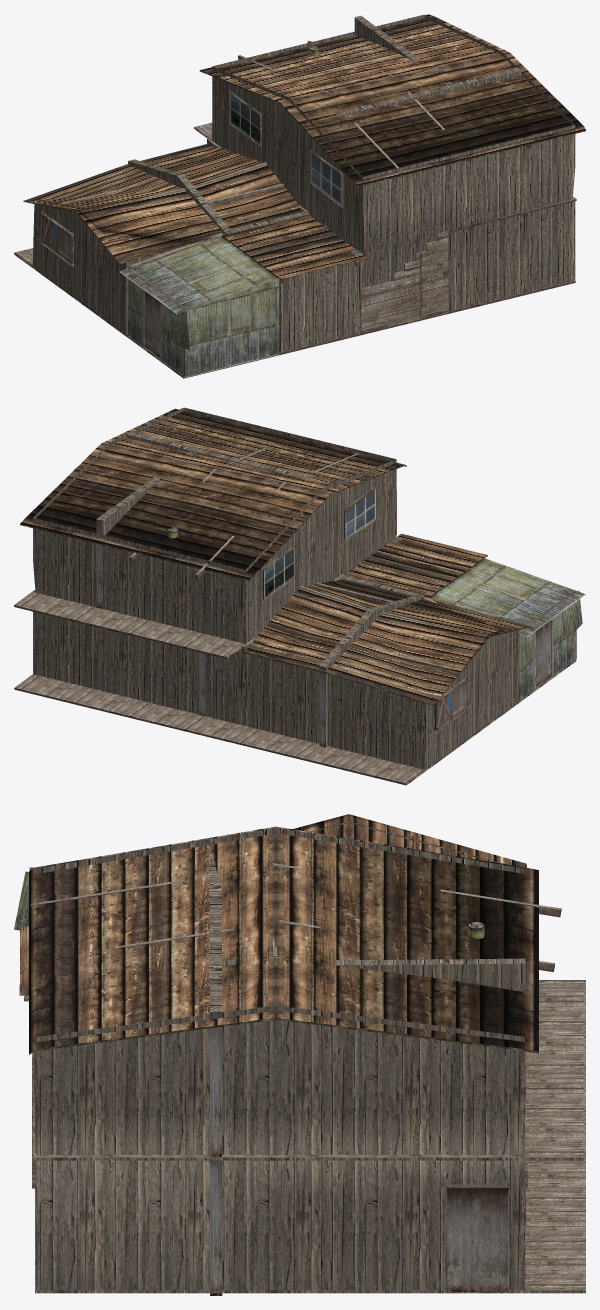
The model's file is HouseInterior.FBX.
The picture shows the model from 3 angles, top to bottom: view 1: azimuth 30°, elevation 25°; view 2: azimuth 150°, elevation 25°; view 3: azimuth 270°, elevation 25°; orthographic projection. The views are drawn at different scales.
Visible parts, largest first — view 1: CasaMain, Techo1, Techo2, Bodega, UTypeStair001, Ventanas2-1, Piso1, Pared2Eje, Pared1Taller, Ventana1-2, Pared2Sep, Puerta010 (+1 smaller); view 2: CasaMain, Techo1, Techo2, Piso1, Bodega, Piso2, Ventanas2-1, Pared1Taller, Pared2Sep, Pared2Eje, Ventana1-2, Puerta010; view 3: CasaMain, Techo1, Piso2, Piso1, Techo2, Pared2Sep, Pared2Eje, Pared1Centro.
Part boxes in pixels (x1,y1,x2,y2): CasaMain: [32, 14, 575, 352]; Techo1: [199, 14, 585, 186]; Techo2: [23, 144, 367, 279]; Bodega: [119, 237, 279, 377]; UTypeStair001: [360, 231, 448, 333]; Ventanas2-1: [229, 90, 343, 208]; Piso1: [14, 248, 575, 378]; Pared2Eje: [313, 67, 521, 121]; Pared1Taller: [128, 159, 230, 232]; Ventana1-2: [41, 210, 73, 267]; Pared2Sep: [354, 15, 453, 85]; Puerta010: [144, 291, 159, 357]; CasaMain: [32, 407, 518, 769]; Techo1: [20, 408, 406, 580]; Techo2: [242, 533, 530, 705]; Piso1: [14, 659, 576, 785]; Bodega: [429, 558, 585, 700]; Piso2: [14, 572, 264, 658]; Ventanas2-1: [262, 485, 376, 601]; Pared1Taller: [319, 595, 421, 747]; Pared2Sep: [96, 451, 195, 608]; Pared2Eje: [126, 431, 342, 573]; Ventana1-2: [434, 677, 466, 733]; Puerta010: [536, 620, 550, 686]; CasaMain: [33, 821, 527, 1291]; Techo1: [29, 826, 538, 1054]; Piso2: [33, 989, 584, 1160]; Piso1: [35, 980, 585, 1293]; Techo2: [19, 814, 526, 995]; Pared2Sep: [222, 958, 525, 1106]; Pared2Eje: [209, 846, 222, 1156]; Pared1Centro: [210, 1160, 222, 1295].
Size of the model in its own units: 495 by 213 by 368.
